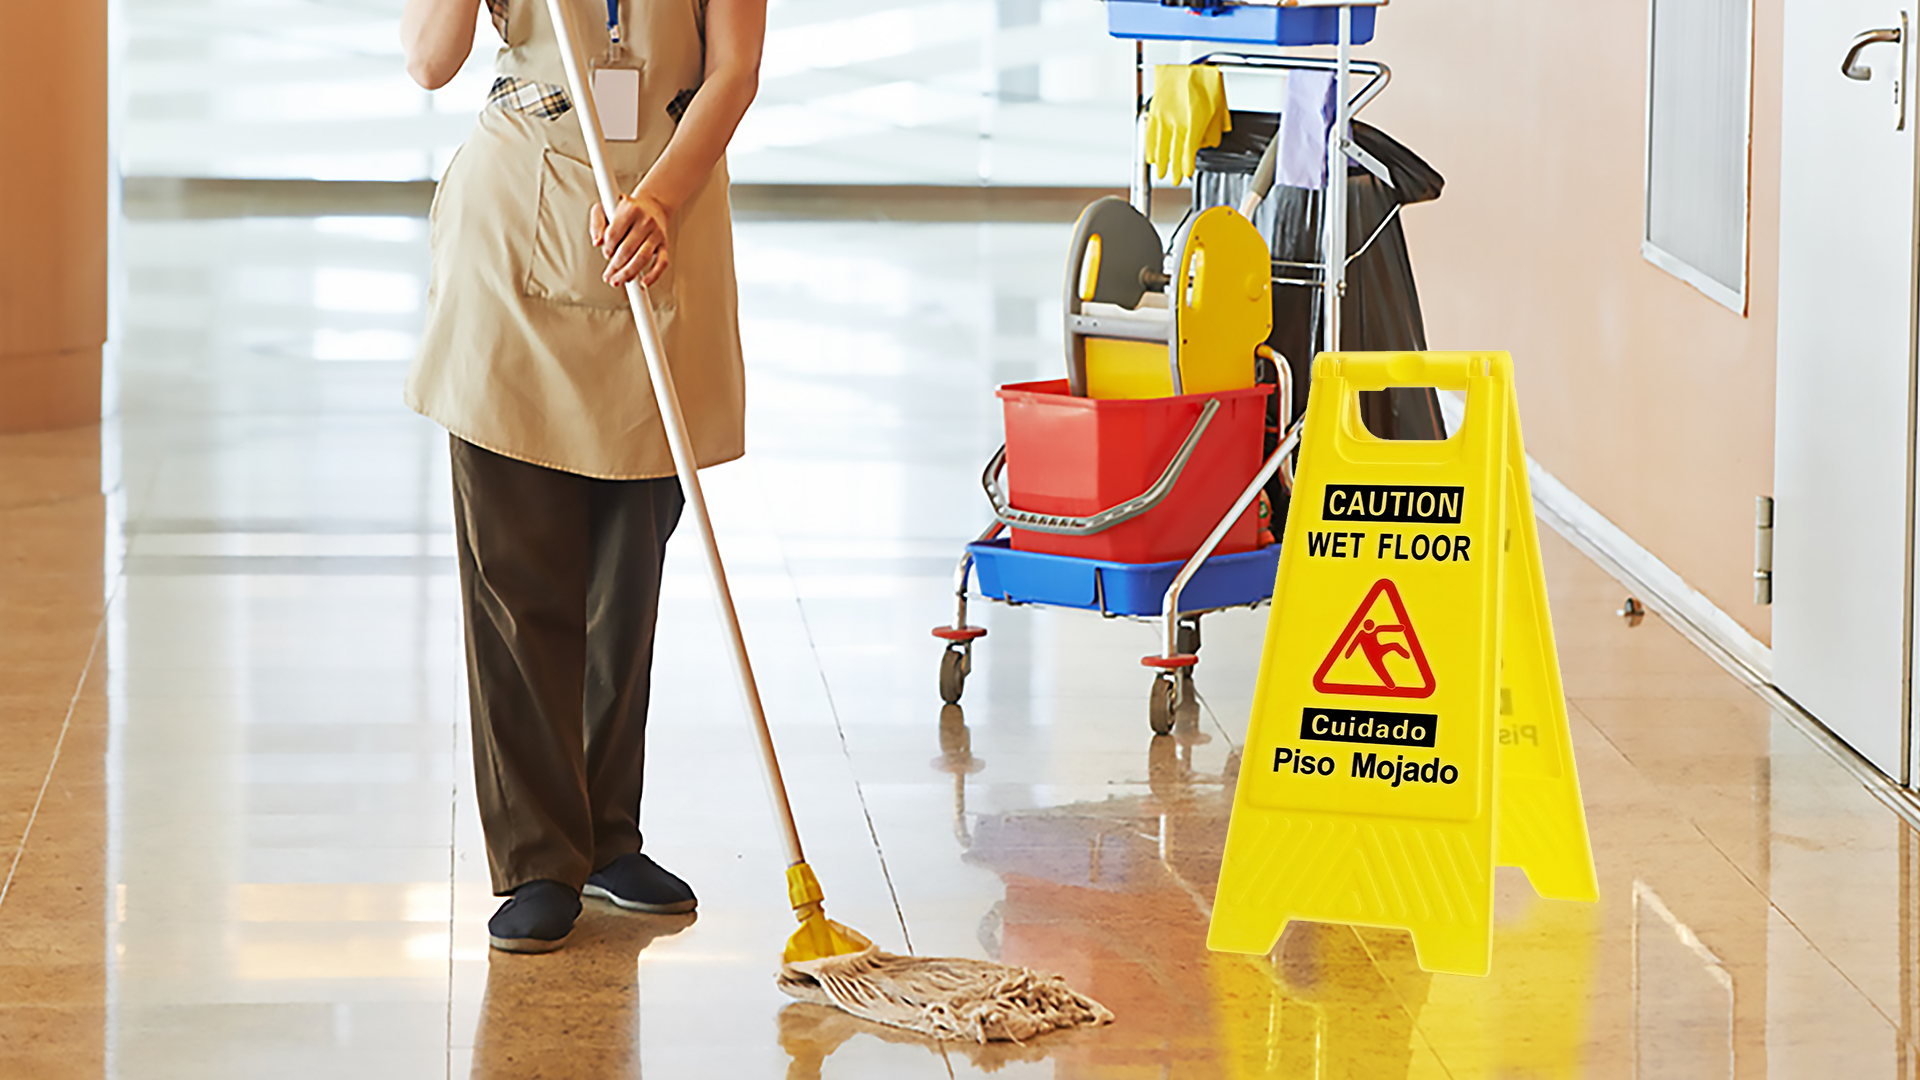wet caution sign: (1204, 344, 1577, 956)
